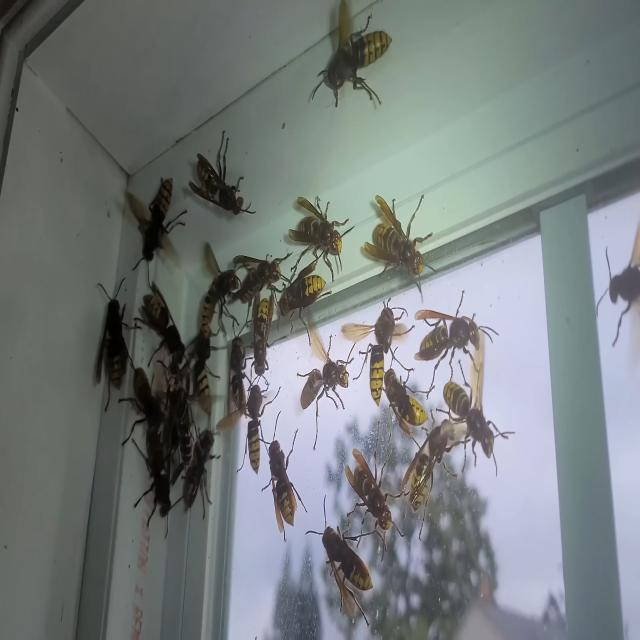Hornets: (305, 494, 386, 629), (414, 288, 500, 401), (435, 360, 516, 475), (311, 0, 392, 109), (388, 411, 456, 534), (342, 298, 414, 409), (364, 192, 436, 302), (344, 444, 406, 560), (126, 177, 188, 293), (296, 334, 355, 453), (95, 277, 142, 412), (259, 411, 307, 540), (132, 425, 182, 545), (288, 195, 355, 284), (188, 131, 257, 217), (133, 280, 189, 378), (274, 251, 331, 347), (380, 347, 435, 445), (235, 374, 282, 476), (197, 244, 243, 341), (182, 415, 222, 521), (230, 251, 292, 306)
